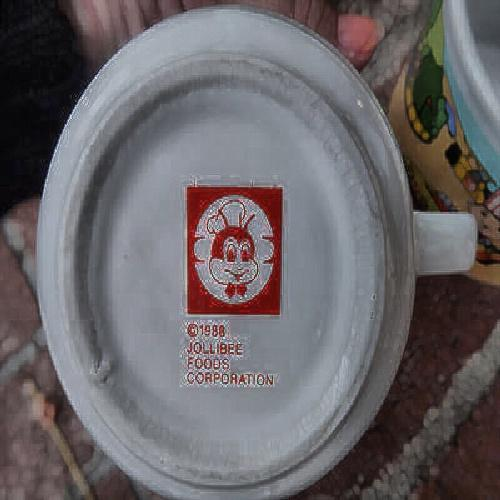mug: (46, 16, 445, 470)
